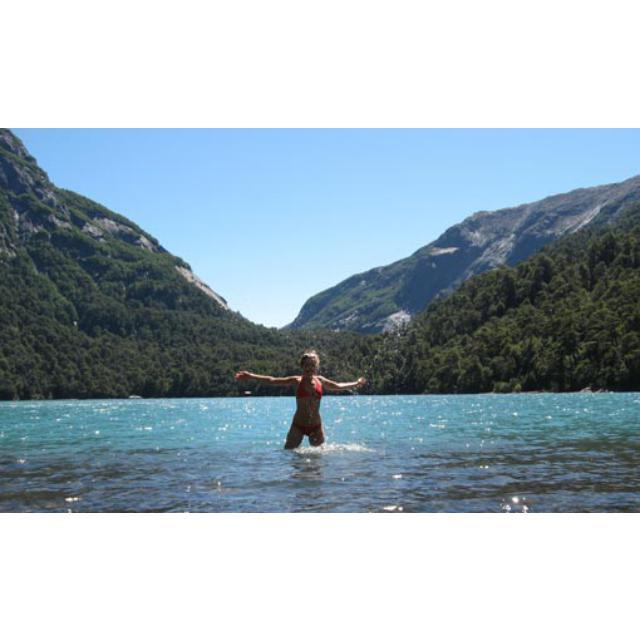human: (235, 351, 366, 452)
